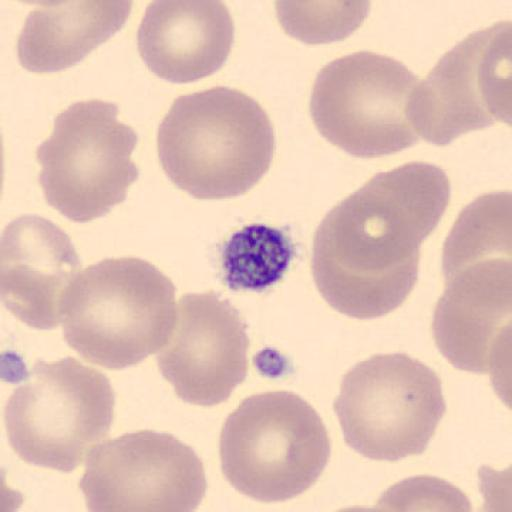Platelet: (212, 220, 301, 296)
RBC: (154, 82, 277, 204), (309, 189, 421, 322), (57, 254, 182, 372), (329, 159, 453, 274), (216, 387, 334, 506), (2, 353, 117, 475), (36, 95, 140, 225), (331, 350, 448, 464), (406, 20, 510, 148), (307, 48, 423, 161), (155, 287, 252, 408), (80, 429, 209, 512), (429, 256, 512, 376), (2, 212, 82, 332), (14, 0, 135, 76), (404, 46, 495, 147), (135, 0, 236, 87), (356, 160, 452, 248), (439, 188, 512, 296), (273, 0, 373, 47), (373, 471, 475, 512), (476, 19, 512, 131), (488, 321, 512, 417), (476, 460, 512, 512), (0, 465, 26, 512), (310, 502, 408, 512), (1, 479, 26, 511)
